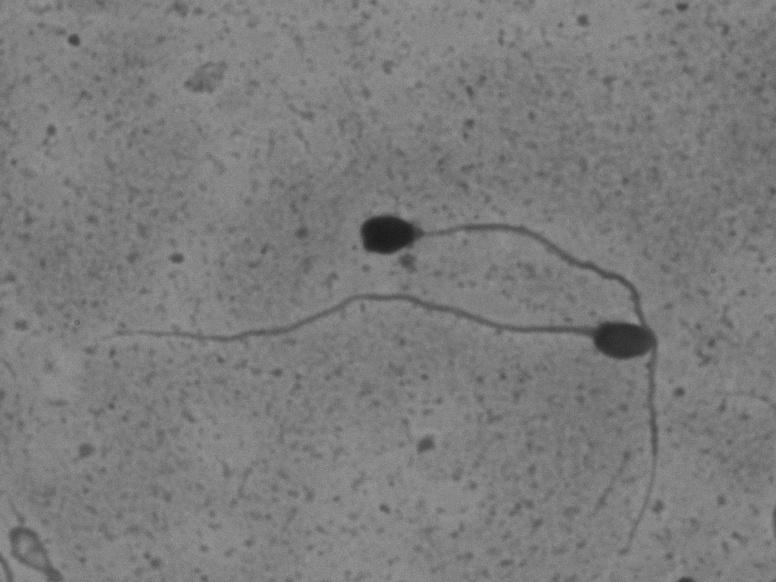Abnormal: (350, 198, 666, 559)
Normal: (91, 282, 652, 368)
